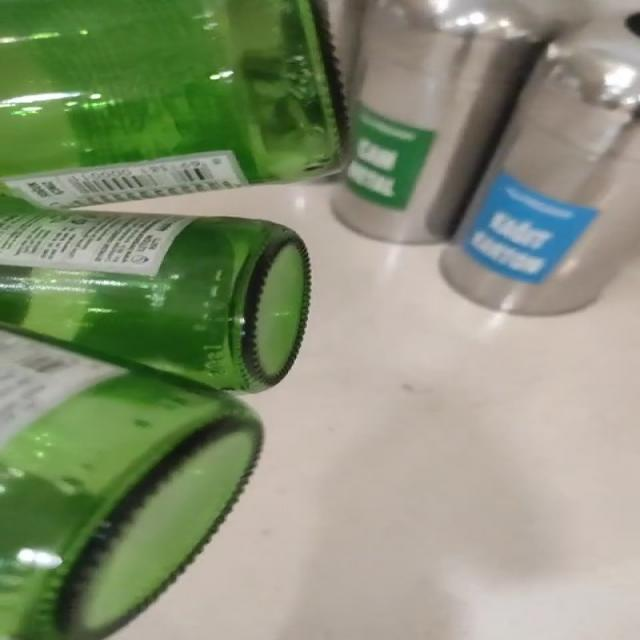glass: (1, 0, 343, 640)
